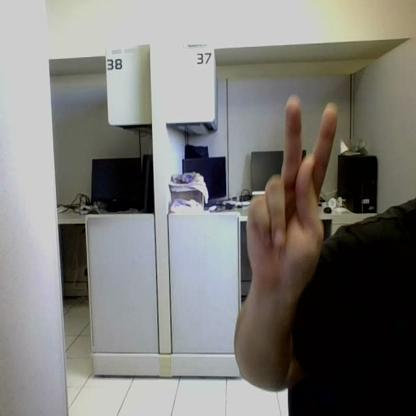K: (246, 100, 338, 288)
